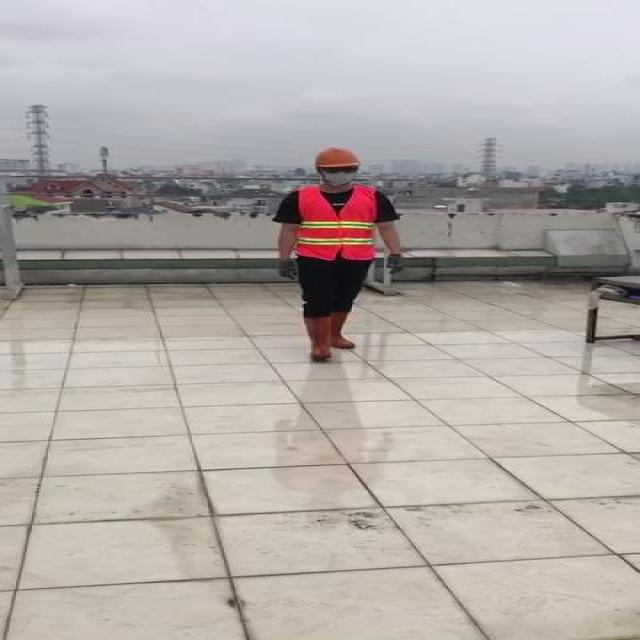boots: (299, 314, 336, 362), (332, 315, 358, 347)
face_mask: (319, 163, 360, 186)
glasses: (316, 164, 362, 176)
hand_glove: (382, 254, 407, 276), (279, 258, 299, 279)
head_helmet: (310, 148, 364, 170)
person: (268, 143, 412, 368)
vest: (297, 186, 375, 260)
